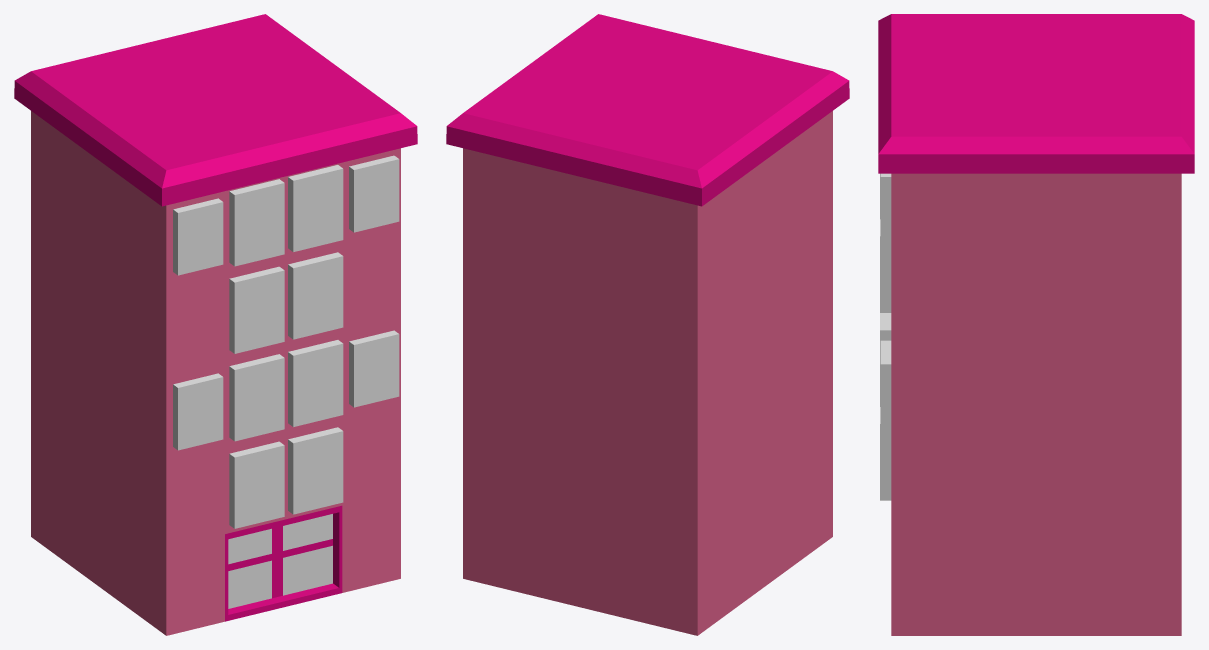
File: PurpleBuilding.fbx
3 views of the same model, side by side, from view 1: azimuth 30°, elevation 25°; view 2: azimuth 150°, elevation 25°; view 3: azimuth 270°, elevation 25° (orthographic). The views are drawn at different scales.
Visible parts, largest first — view 1: Cube.001; view 2: Cube.001; view 3: Cube.001.
Boxes of the visible parts, x1,y1,x2,y2 form: Cube.001: [14, 14, 417, 635]; Cube.001: [446, 14, 849, 635]; Cube.001: [878, 14, 1194, 635].
Bounding box in the file's own units: 528 × 919 × 528.
